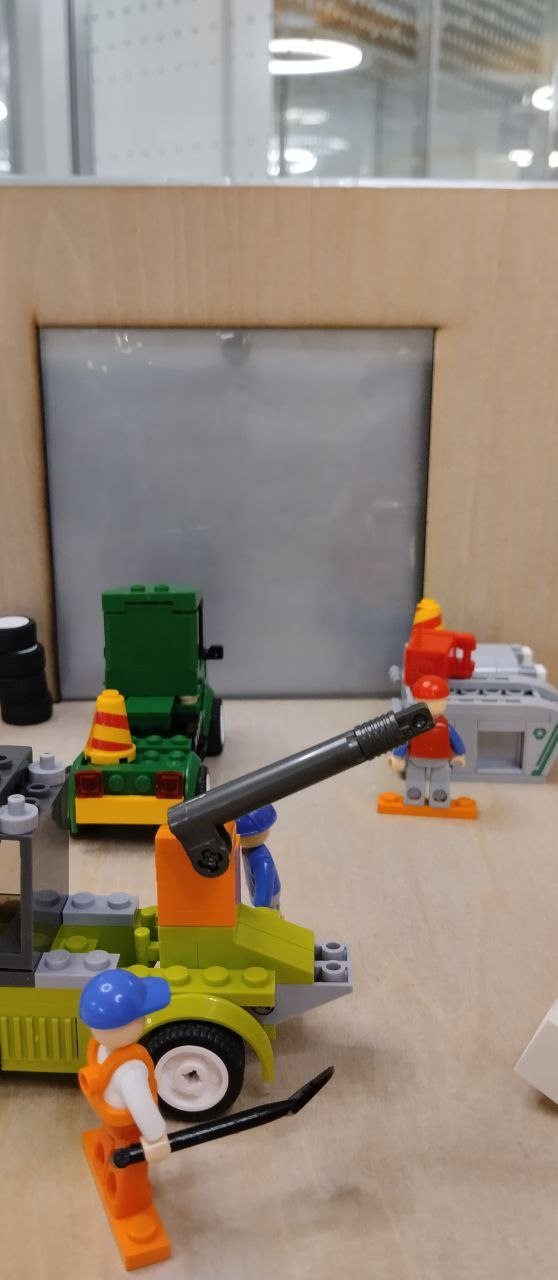Cone: (81, 688, 138, 766), (409, 594, 447, 682)
Crane: (0, 707, 435, 1118)
Object Red: (404, 630, 479, 688)
Truck: (58, 583, 224, 842)
